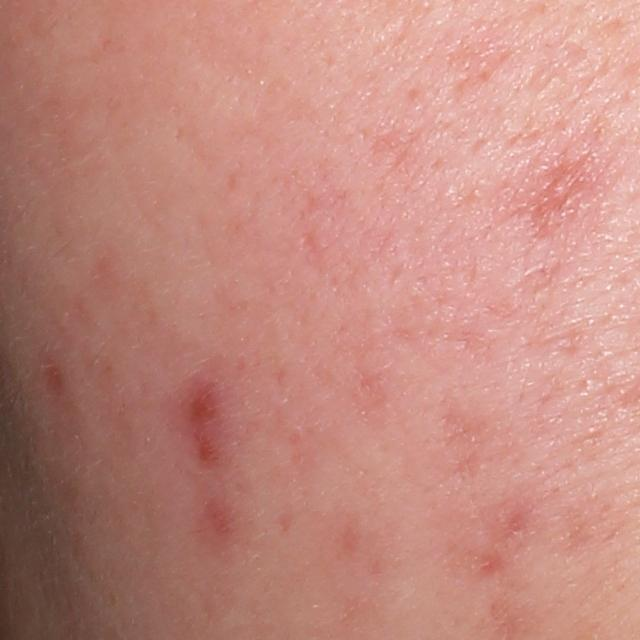papule: (176, 378, 226, 434), (197, 432, 223, 464)
